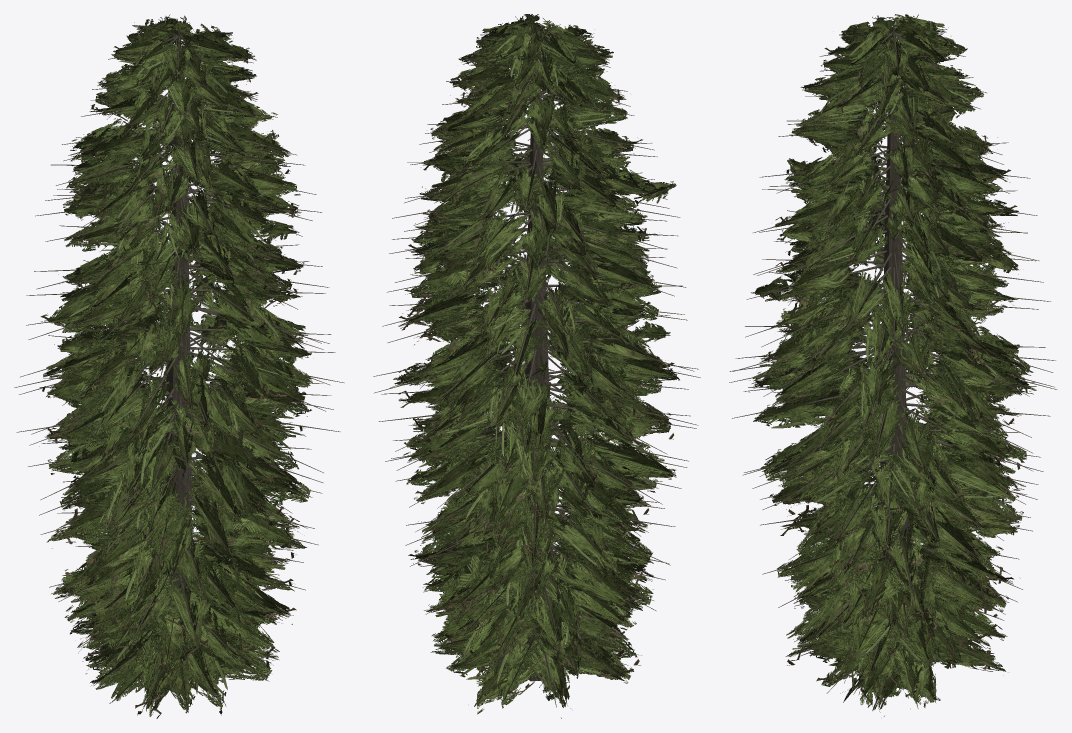
The model's file is conifer_v8_lod0.glb.
3 renders of one model, left to right at view 1: azimuth 30°, elevation 25°; view 2: azimuth 150°, elevation 25°; view 3: azimuth 270°, elevation 25°, orthographic.
Visible parts, largest first — view 1: conifer_v8_lod0; view 2: conifer_v8_lod0; view 3: conifer_v8_lod0.
Boxes of the visible parts, box(x1,y1,x2,y2) form: conifer_v8_lod0: box(14, 14, 344, 718); conifer_v8_lod0: box(373, 14, 700, 718); conifer_v8_lod0: box(729, 14, 1057, 716).
Bounding box in the file's own units: 8.34 × 18.9 × 8.44.
Materials: 1 (1 with a texture image).
